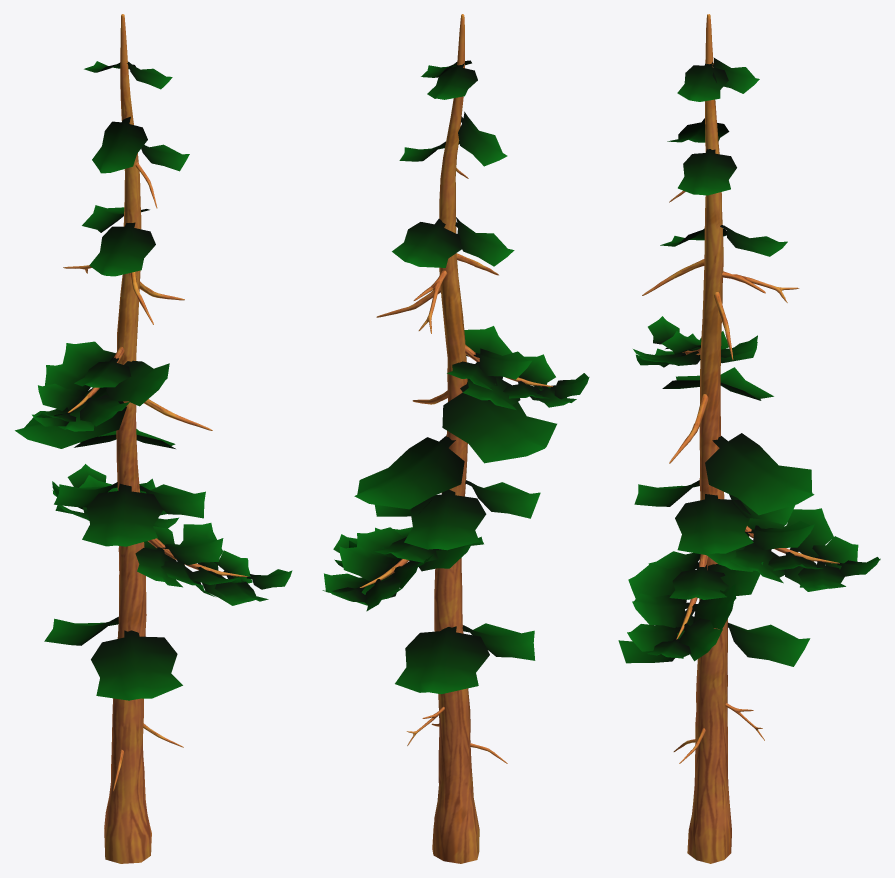
The model's file is tree_4.glb.
3 views of the same model, side by side, from view 1: azimuth 30°, elevation 25°; view 2: azimuth 150°, elevation 25°; view 3: azimuth 270°, elevation 25° (orthographic).
Visible parts, largest first — view 1: stylized_pine_var4; view 2: stylized_pine_var4; view 3: stylized_pine_var4.
Part boxes in pixels (x1,y1,x2,y2): stylized_pine_var4: (15, 14, 292, 863); stylized_pine_var4: (322, 14, 589, 863); stylized_pine_var4: (618, 14, 880, 863).
Bounding box in the file's own units: 4.45 × 14.36 × 4.08.
2 materials, 1 textured.
